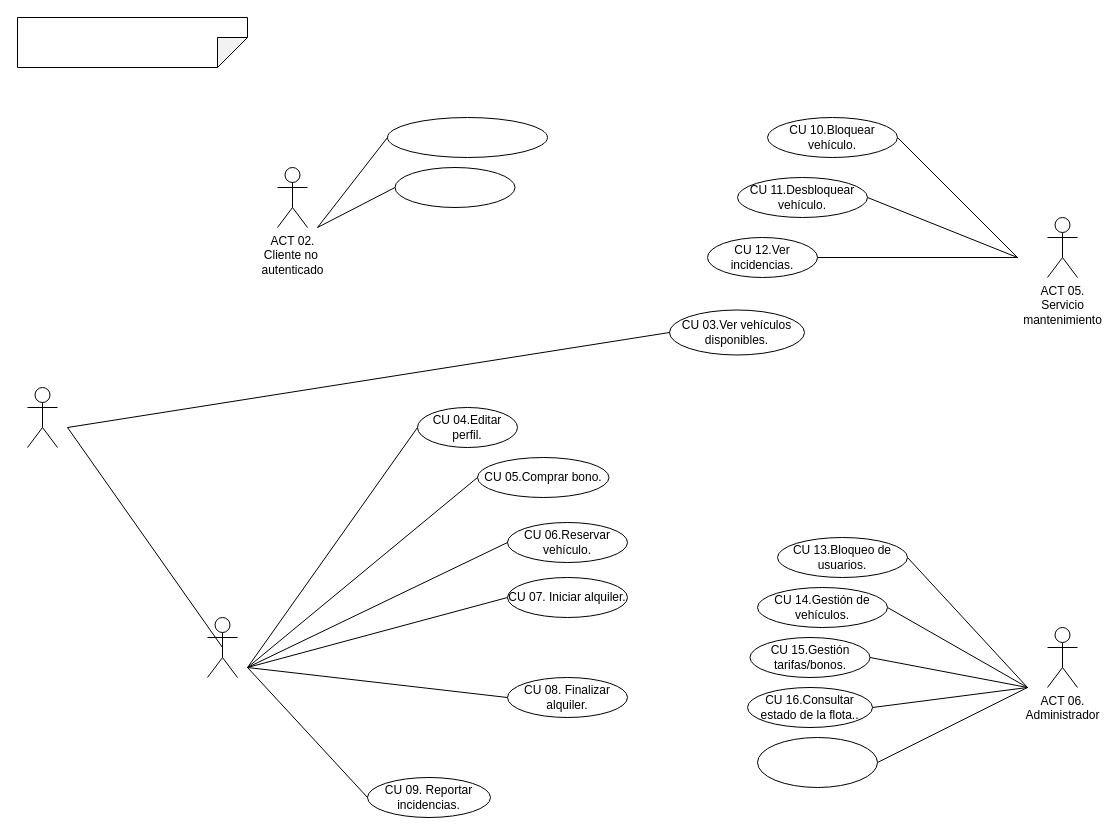
Some shapes in this 1119 by 835 pixel diagram are drawn without their labels. Here are the shapes that lost their labels. From the top down, the centre of each, then its label:
At pixel 132 42: "Diagrama de Casos de Uso Inicial Completo (Grueso)".
At pixel 467 137: "CU 01. Registrar en la aplicación.".
At pixel 454 187: "CU 02.Iniciar sesión.".
At pixel 42 417: "ACT 01. Usuario".
At pixel 222 647: "ACT 03. Cliente autenticado".
At pixel 817 762: "CU 17.Gestión de personal.".
